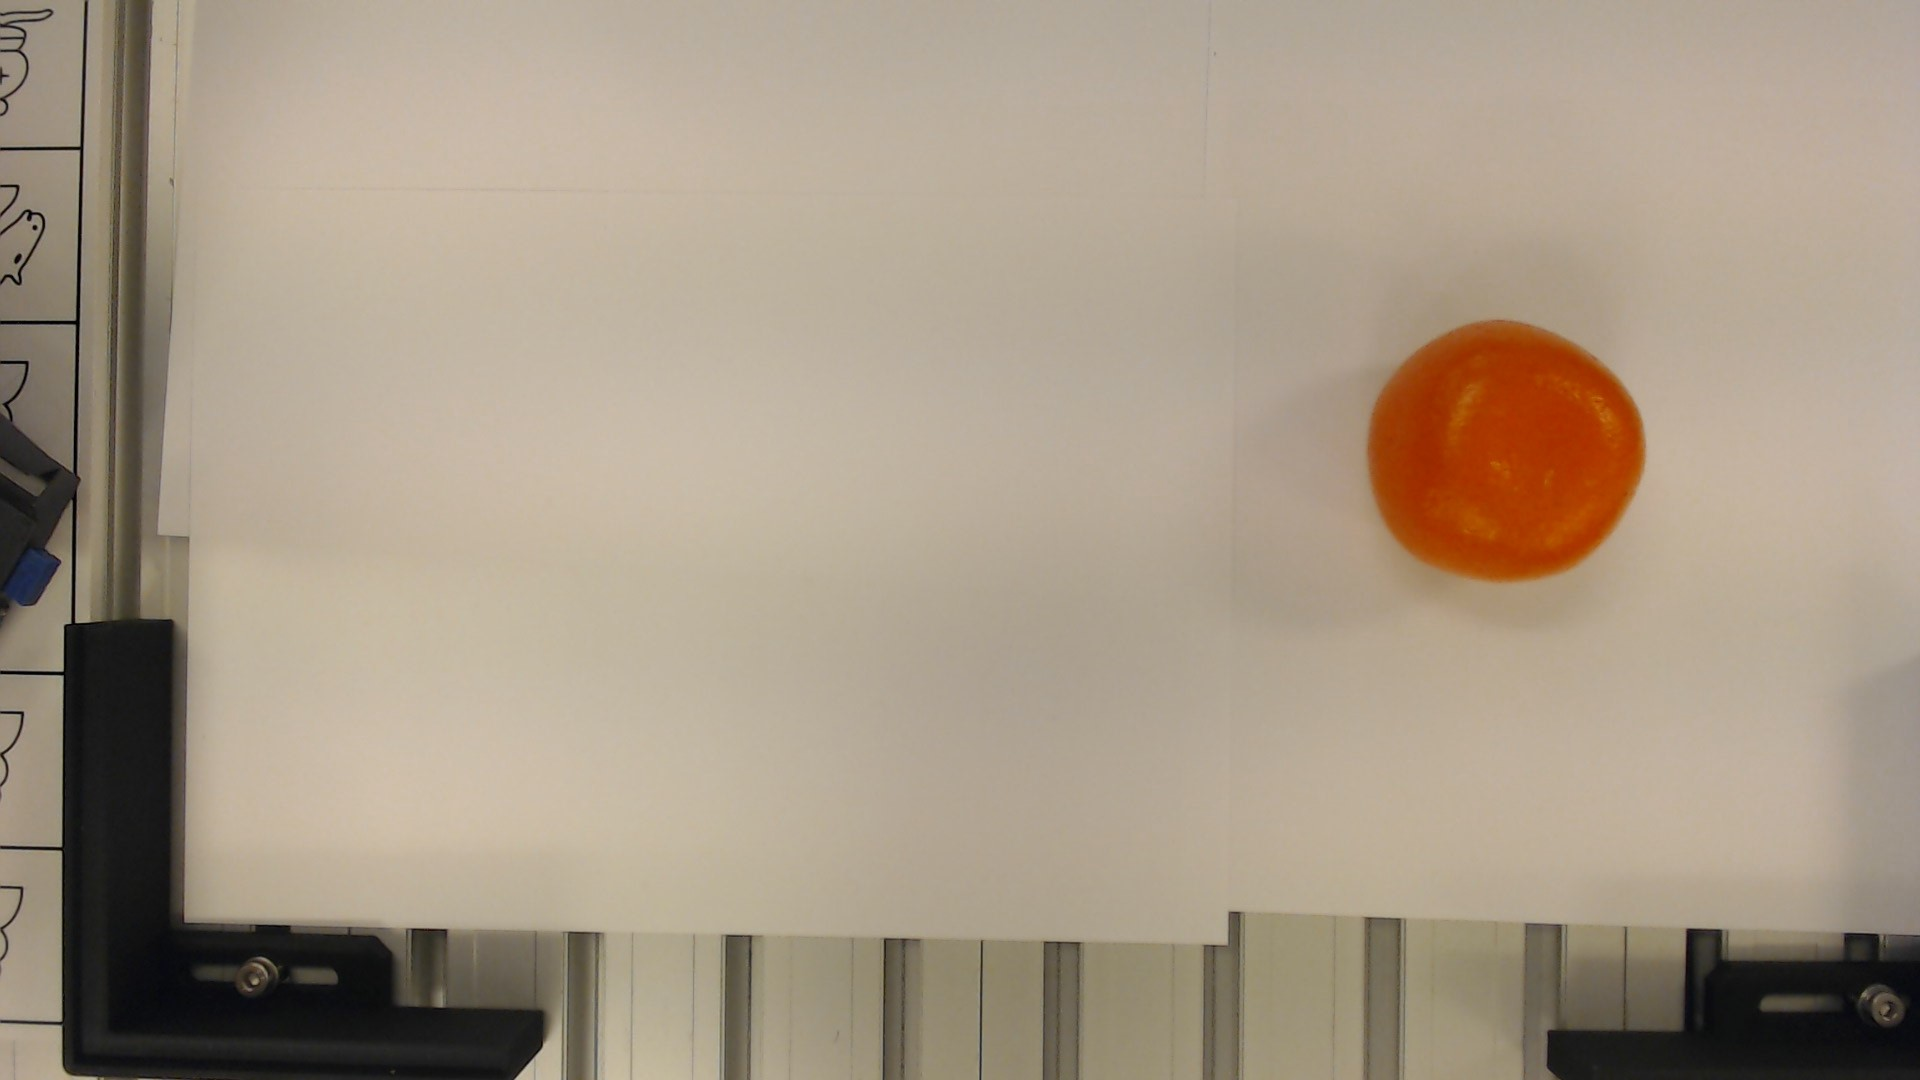Mandarin: (1367, 313, 1654, 592)
